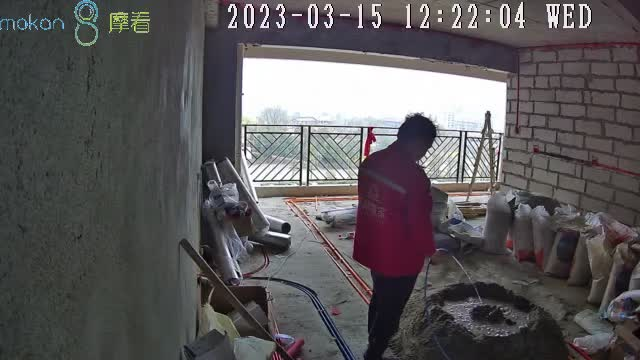people: (352, 112, 442, 360)
window: (242, 55, 507, 186)
